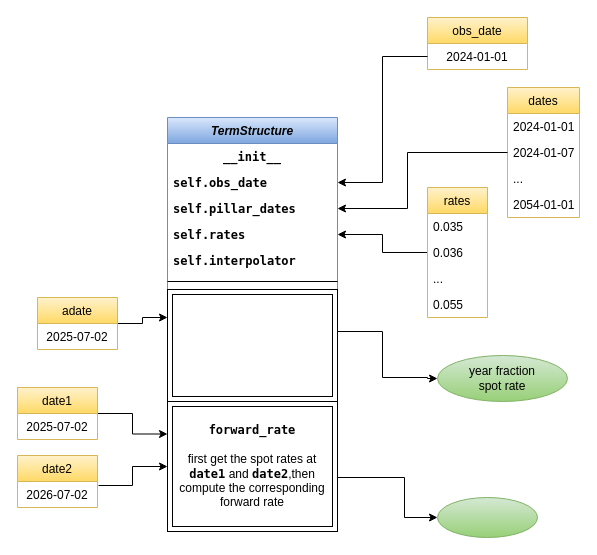
The diagram is 597 pixels wide and 555 high, and some of its shapes have lost their labels. Here are the shapes that lost their labels. From the top down, the centre of each, then its label:
[252,345]: interp_rate calculate the interpolated spot rate at date adate
[487,517]: forward rate
